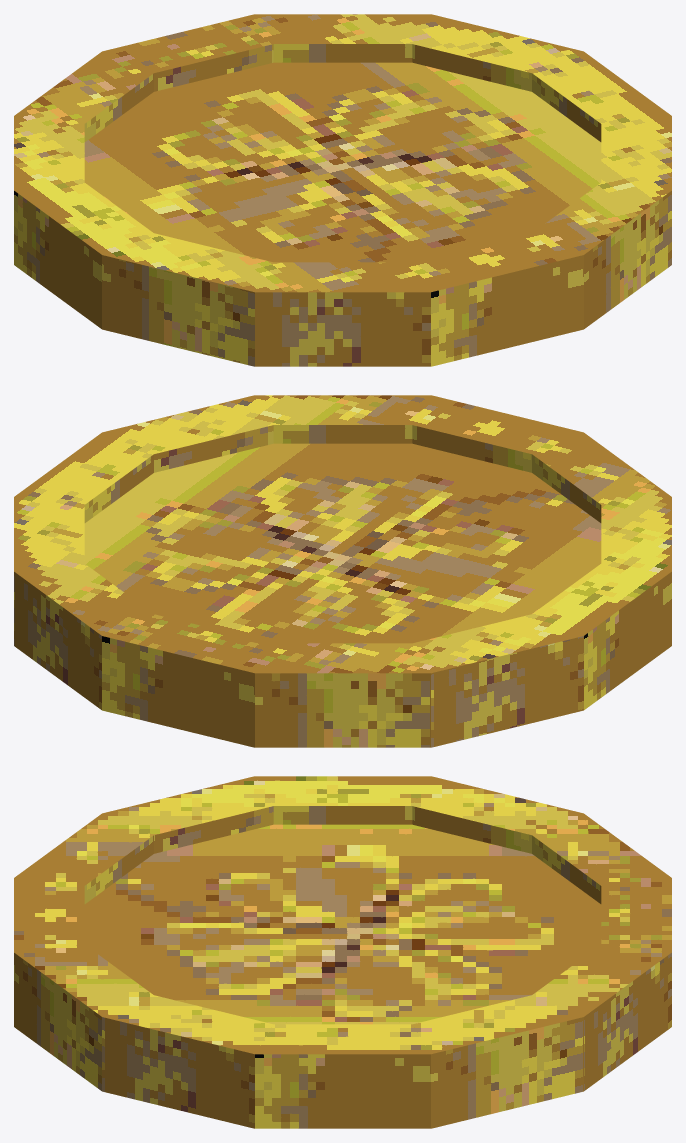
Rendered from Coin.fbx.
3 renders of one model, top to bottom at view 1: azimuth 30°, elevation 25°; view 2: azimuth 150°, elevation 25°; view 3: azimuth 270°, elevation 25°, orthographic.
Parts seen in each view (by area): view 1: CoinOuter, CoinInner; view 2: CoinOuter, CoinInner; view 3: CoinOuter, CoinInner.
Part boxes in pixels (bbox=[...]): CoinOuter: bbox=[14, 14, 671, 366]; CoinInner: bbox=[84, 62, 601, 262]; CoinOuter: bbox=[14, 395, 671, 747]; CoinInner: bbox=[84, 443, 601, 643]; CoinOuter: bbox=[14, 776, 671, 1128]; CoinInner: bbox=[84, 824, 601, 1024].
Size of the model in its own units: 100 by 12.5 by 100.
Materials: 2 (2 with a texture image).
